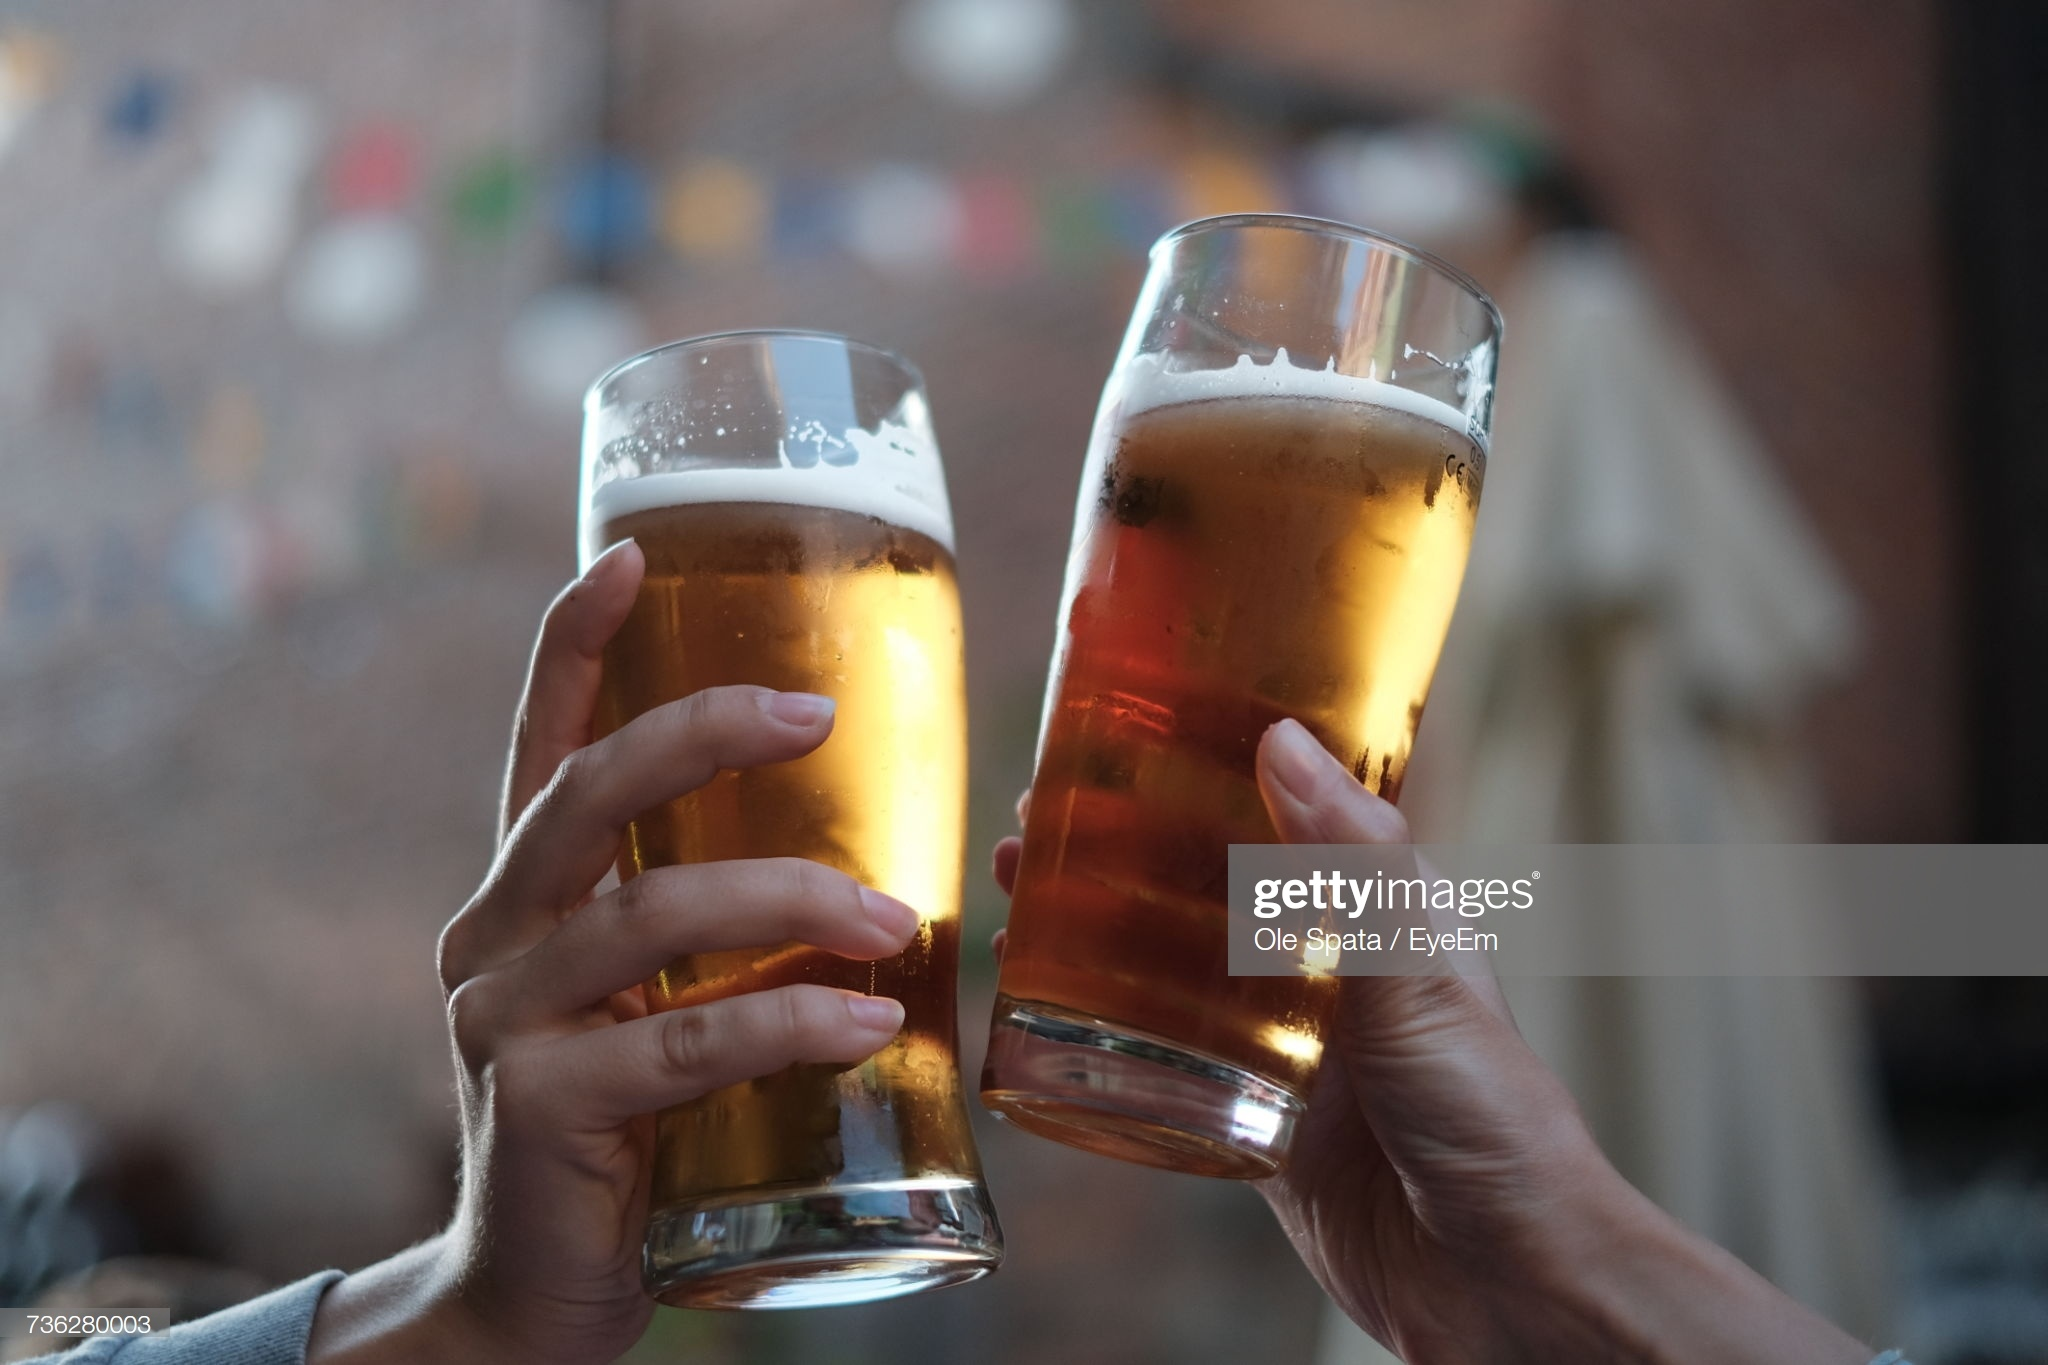glassBeer: (996, 251, 1480, 1155), (565, 329, 1011, 1284)
